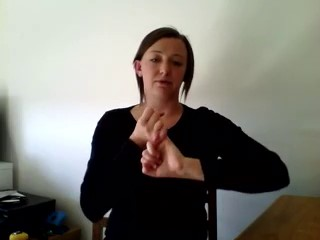S: (128, 101, 200, 184)
